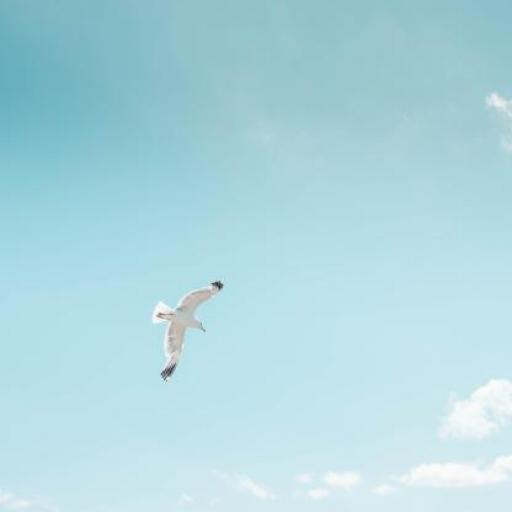bird: (154, 280, 224, 382)
